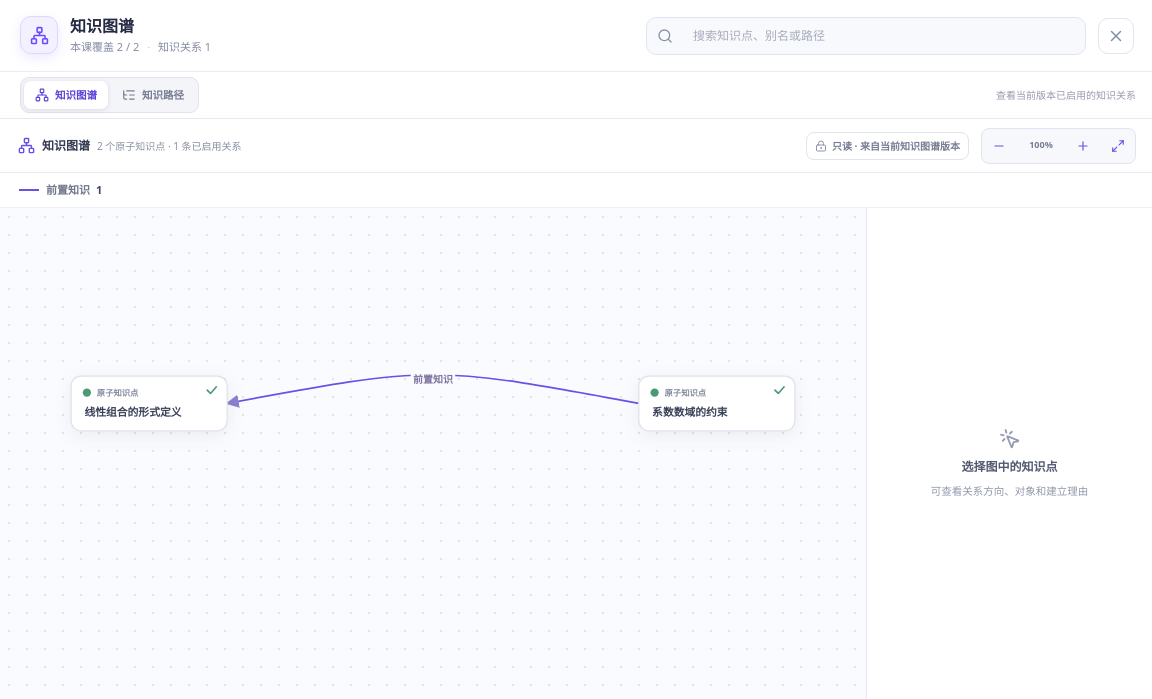
Scenario: Course knowledge library › 搜索原子知识时保留课程、章节、小节和概念组祖先路径
Click the tab "知识路径" at [153, 95], box [111,81,195,109]
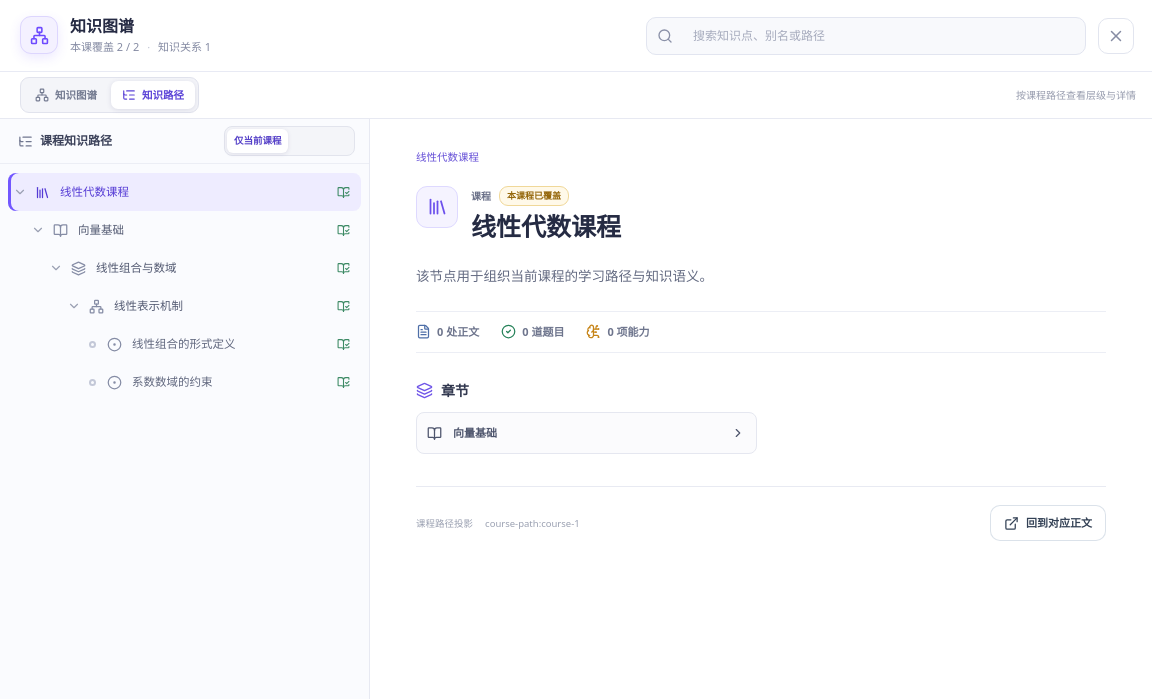
Type "系数数域" into the search field with placeholder "搜索知识点、别名或路径" at [878, 36], box [681,18,1075,53]
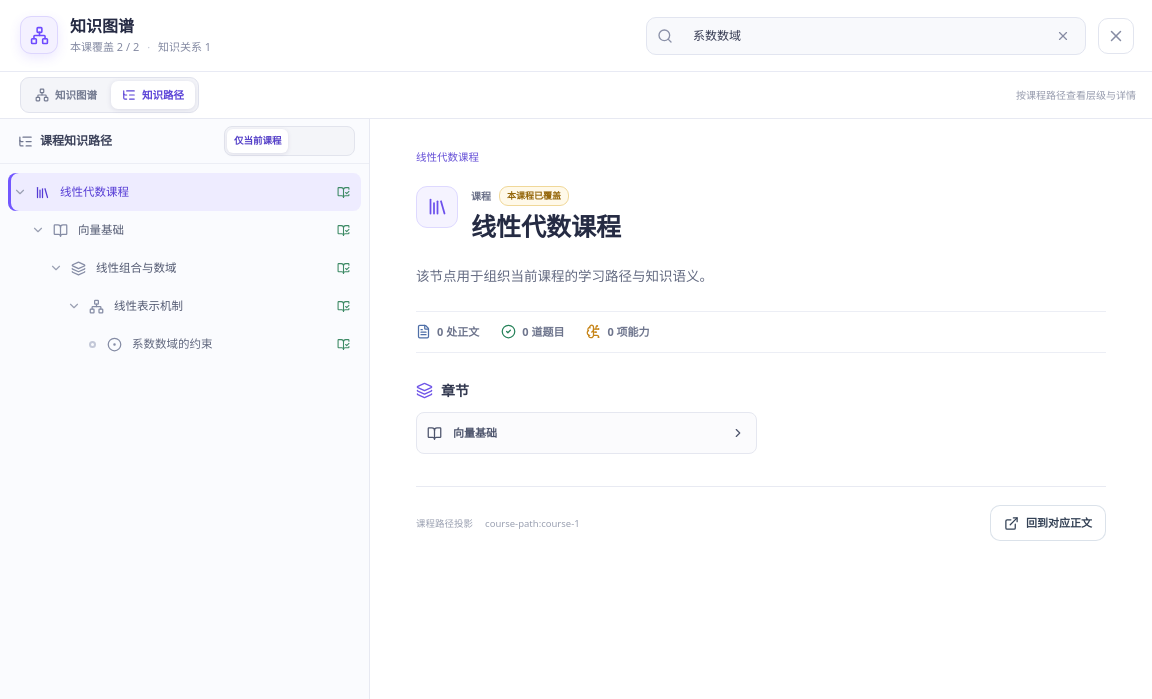
Press Enter in the search field, box [681,18,1043,53]
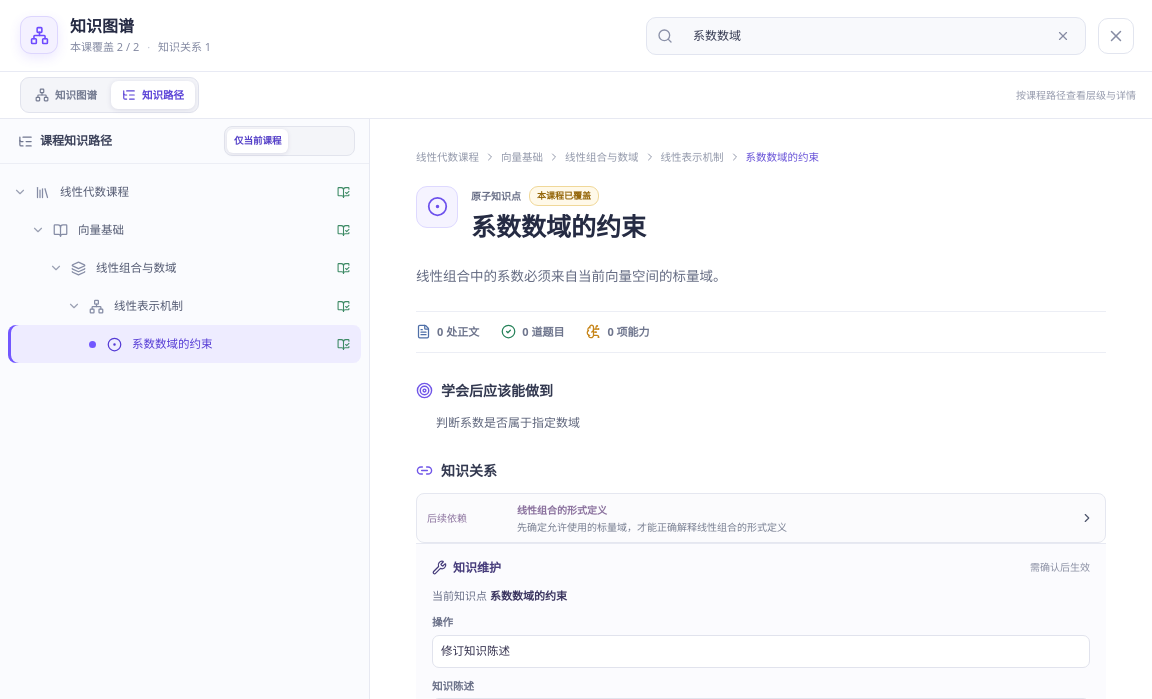
Expected: the number of list items with class "knowledge-tree-row" is 5, [8,173,361,211]; [8,211,361,249]; [8,249,361,287]; [62,289,361,323]; [8,325,361,363]
Expected: the navigation bar with class "knowledge-tree-breadcrumb" shows "线性代数课程", [416,150,479,164]
Expected: the heading "系数数域的约束" is shown, [471,210,646,244]
